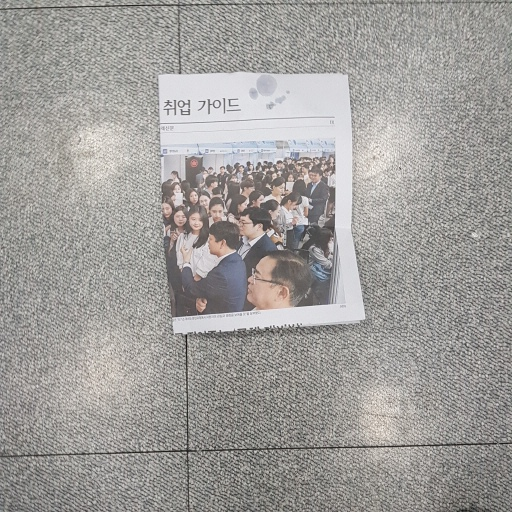Paper_2: (144, 62, 378, 353)
